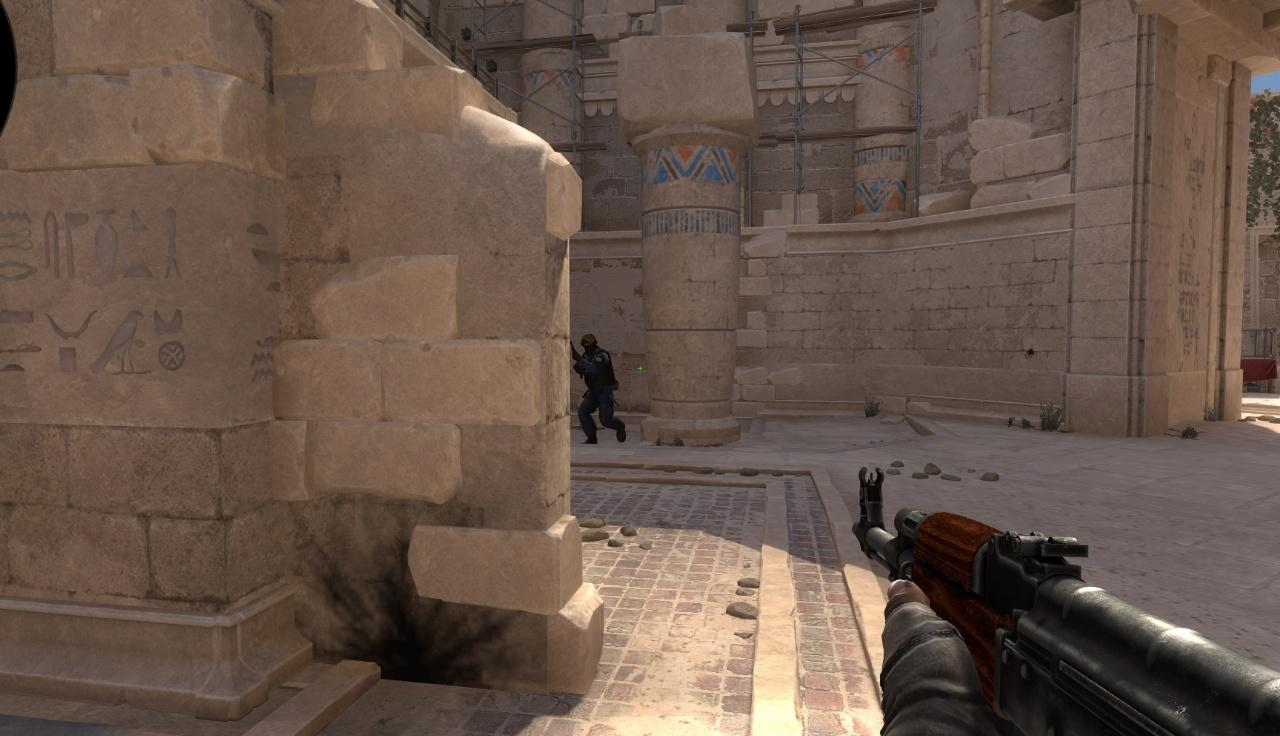ct: (573, 333, 625, 443)
cthead: (580, 333, 597, 353)
rifle: (851, 469, 1280, 733)
